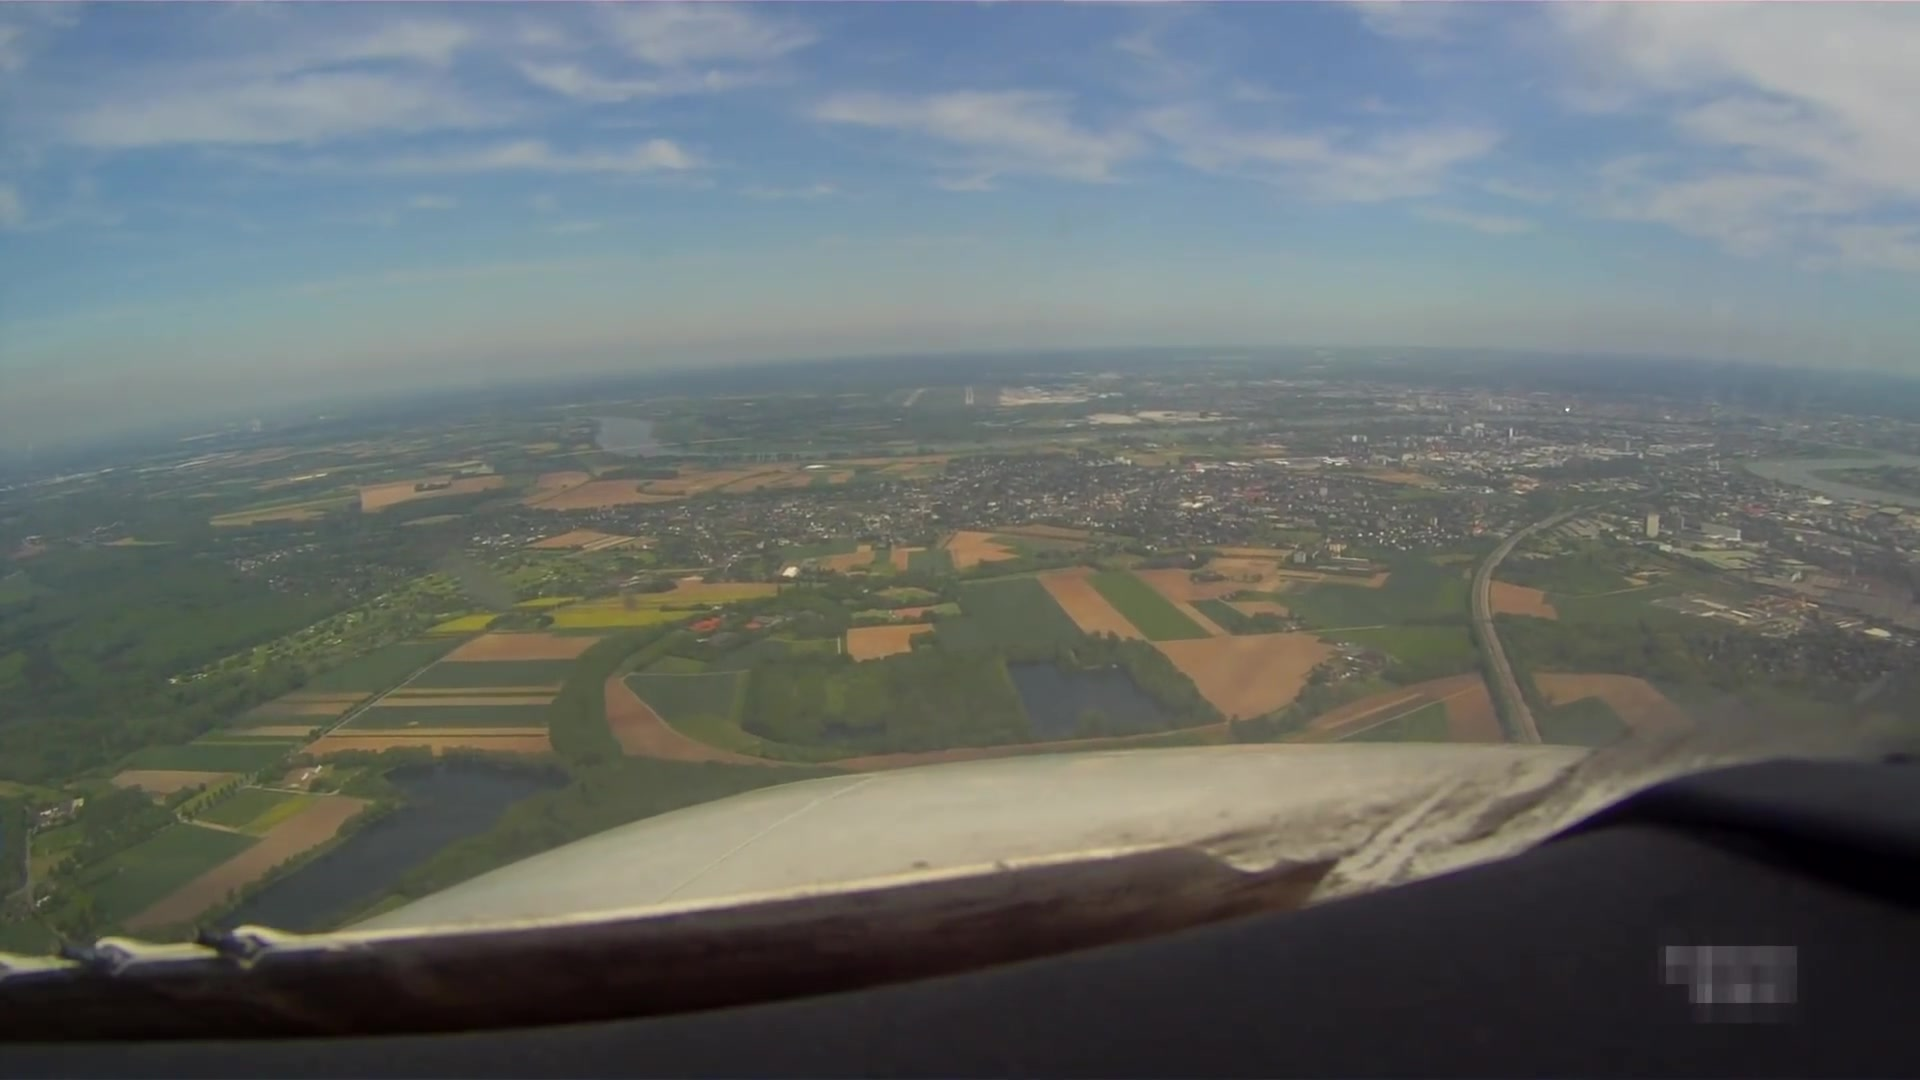runway: (899, 386, 928, 409), (963, 385, 975, 406)
